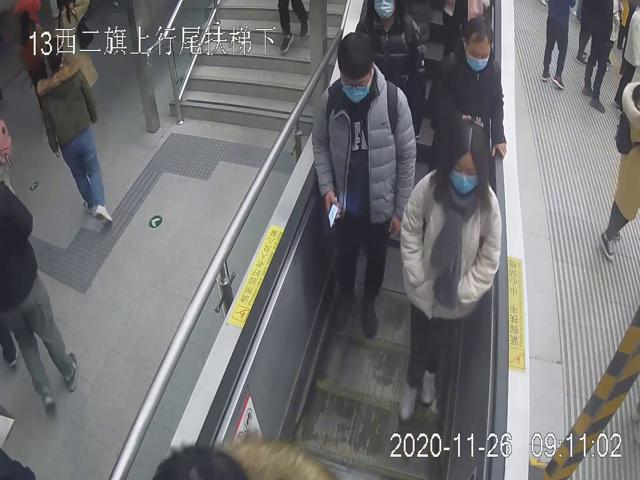person: (308, 26, 419, 340), (398, 112, 502, 420), (424, 12, 508, 162)
